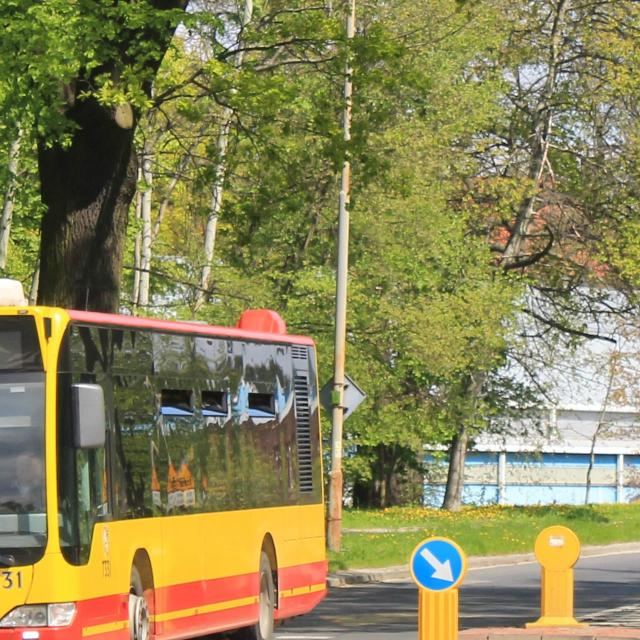Bus: (0, 306, 328, 640)
Electric pole: (328, 160, 350, 553), (344, 63, 352, 141), (347, 0, 356, 39)
